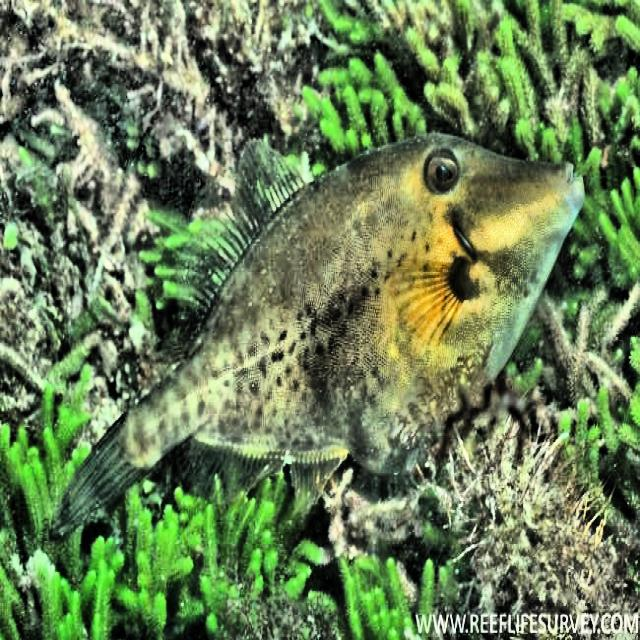fish: (48, 128, 586, 542)
